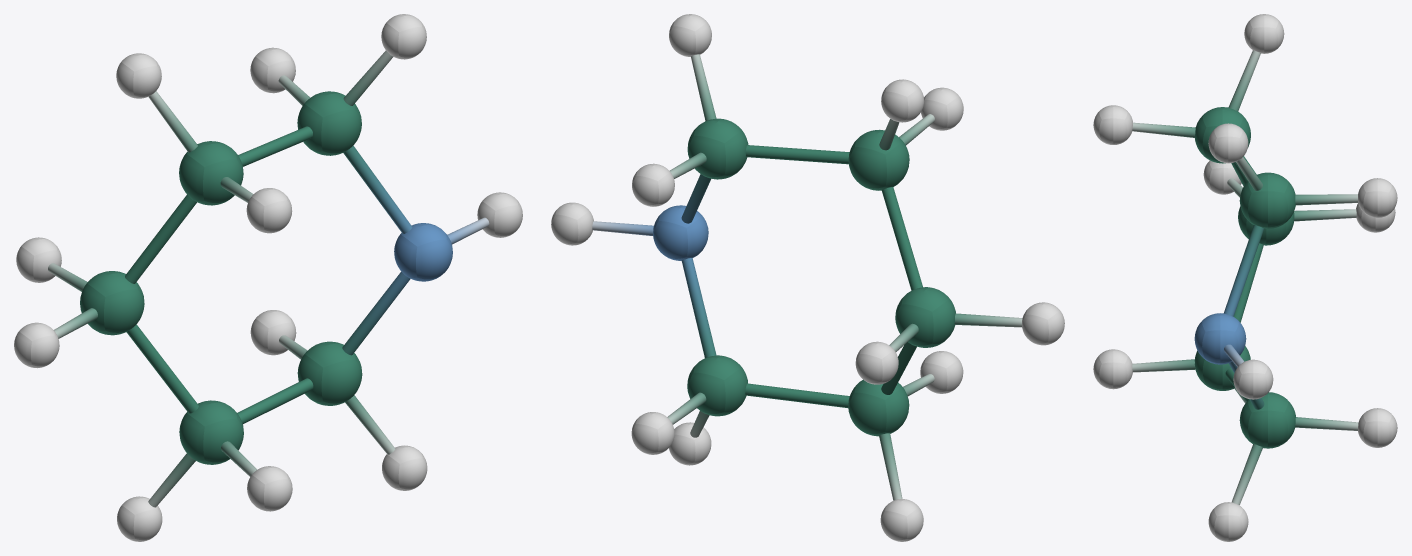
Rendered from Piperdine.fbx.
The picture shows the model from 3 angles, left to right: view 1: azimuth 30°, elevation 25°; view 2: azimuth 150°, elevation 25°; view 3: azimuth 270°, elevation 25°; orthographic projection. The views are drawn at different scales.
Parts seen in each view (by area): view 1: curMeshHyperballExportedMesh; view 2: curMeshHyperballExportedMesh; view 3: curMeshHyperballExportedMesh.
Boxes of the visible parts, <box> form: curMeshHyperballExportedMesh: <box>14,14,522,541</box>; curMeshHyperballExportedMesh: <box>551,14,1064,541</box>; curMeshHyperballExportedMesh: <box>1093,14,1397,541</box>.
Size of the model in its own units: 5.26 by 4.68 by 3.04.
